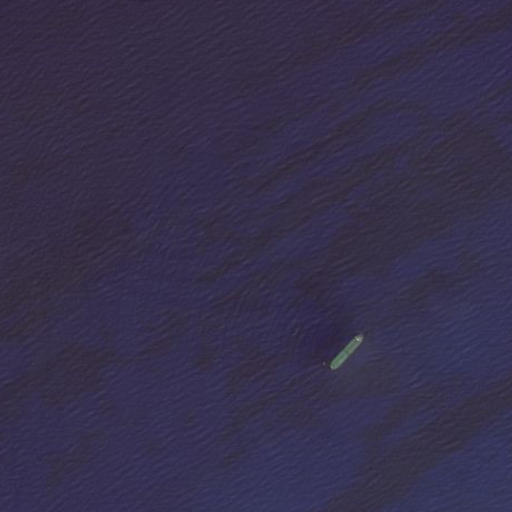ship: (323, 331, 369, 372)
